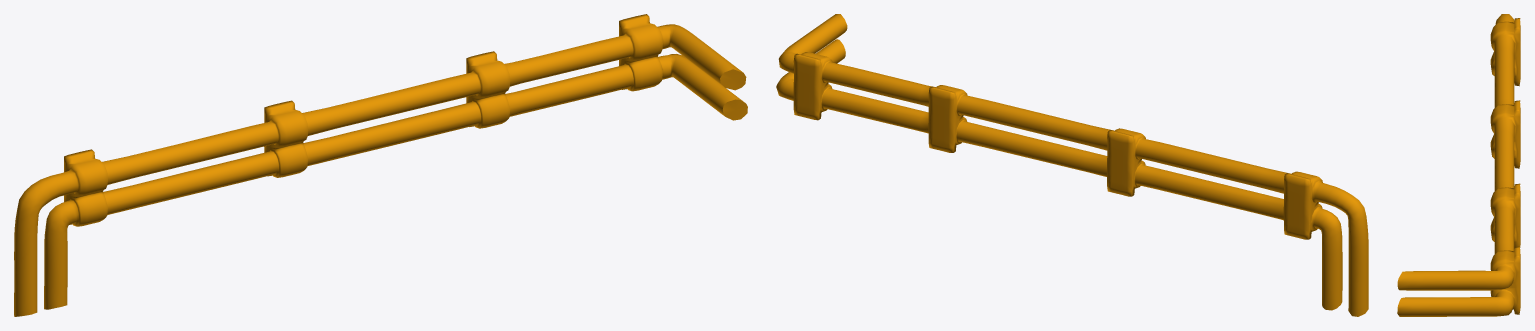
Rendered from lowerWires.fbx.
3 renders of one model, left to right at view 1: azimuth 30°, elevation 25°; view 2: azimuth 150°, elevation 25°; view 3: azimuth 270°, elevation 25°, orthographic. The views are drawn at different scales.
Visible parts, largest first — view 1: lowerWires; view 2: lowerWires; view 3: lowerWires.
Part boxes in pixels (left/top/right/bottom): lowerWires: left=14, top=14, right=747, bottom=316; lowerWires: left=776, top=14, right=1368, bottom=316; lowerWires: left=1397, top=14, right=1520, bottom=316.
Bounding box in the file's own units: 134 × 27.72 × 25.24.
